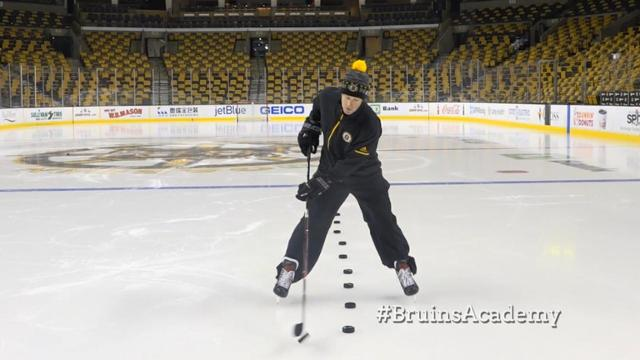geico: (258, 101, 305, 118)
